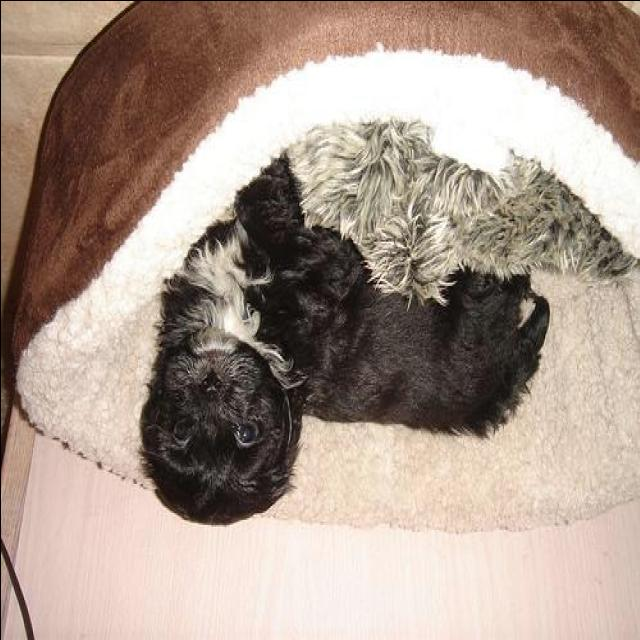shih_tzu: (137, 158, 549, 526)
